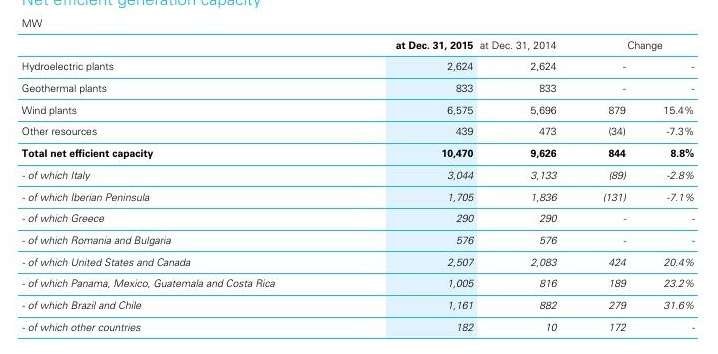table: (0, 0, 718, 354)
